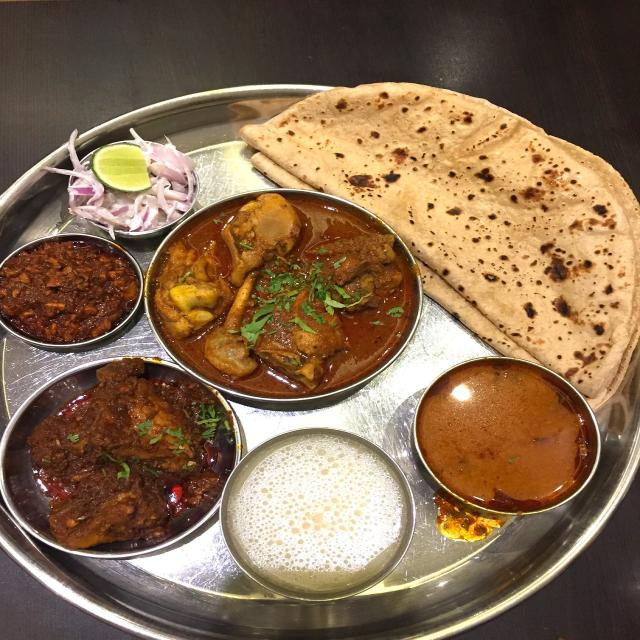non veg meals: (0, 71, 640, 640)
